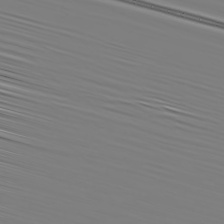cavities: (147, 32, 212, 87), (100, 82, 130, 100)
